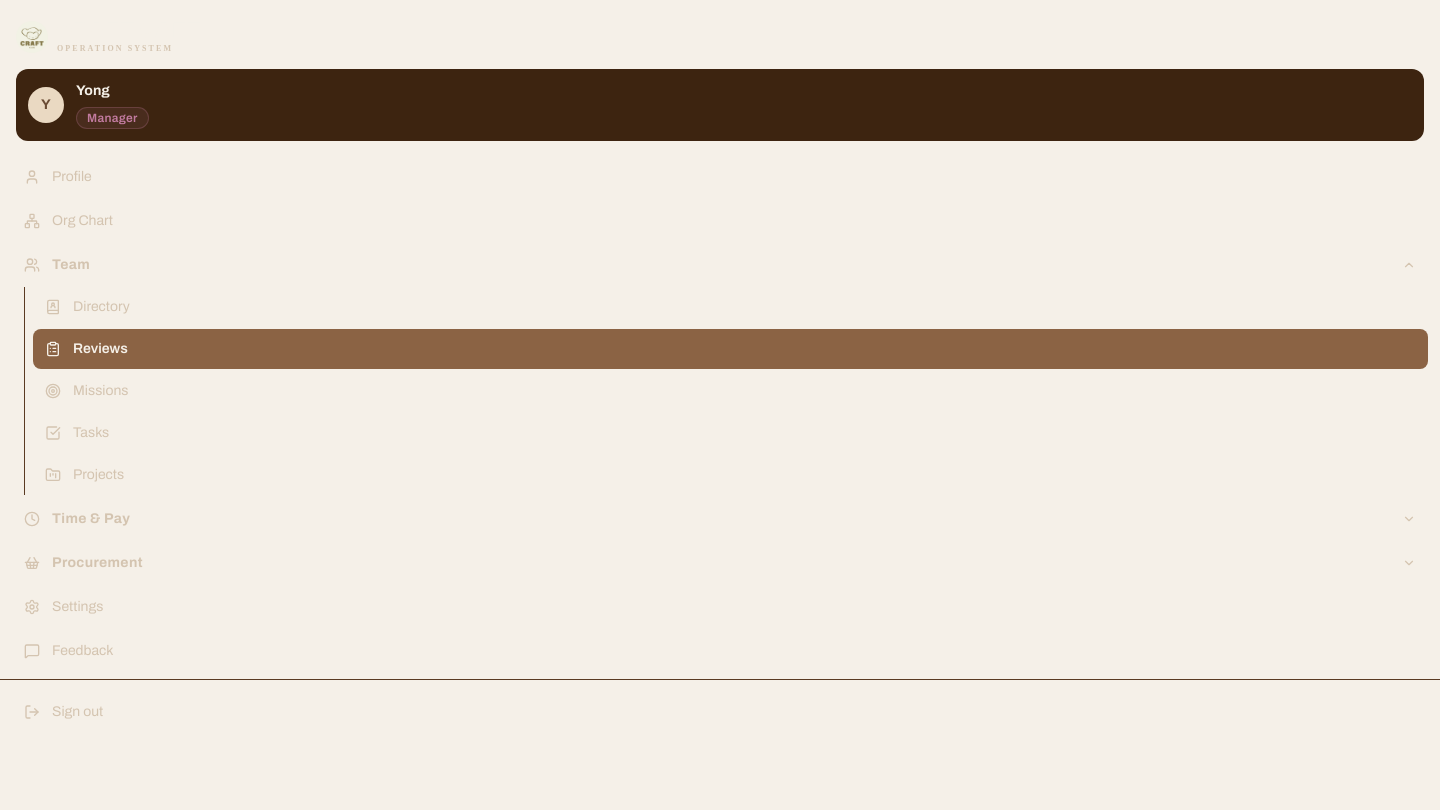
Sidebar 两级导航 › 点击已展开的大类标题会收起子项,同样不触发导航
Expected: the text "Directory" is shown, [73, 297, 130, 317]
Click the button "Team".
click(71, 264)  # box [12, 245, 1428, 285]
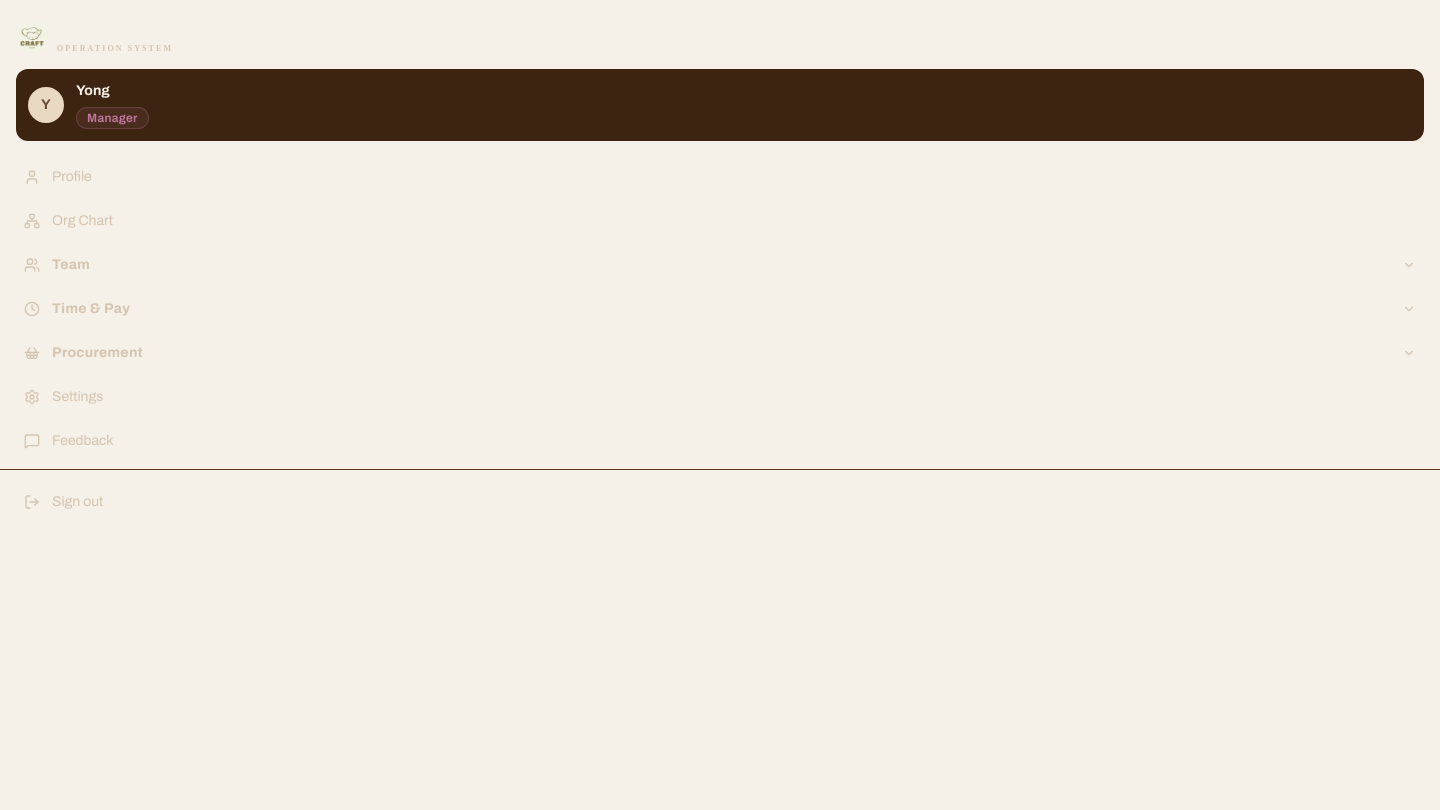
Result: the link "Directory" is gone
